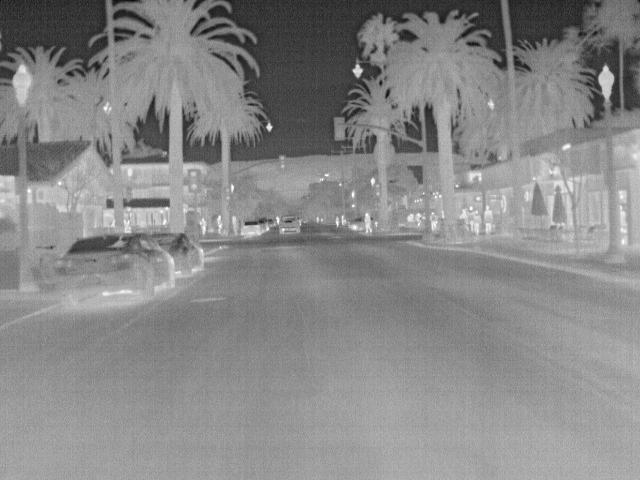car: (58, 236, 175, 310), (149, 232, 205, 278), (279, 214, 305, 235), (239, 221, 263, 238), (347, 214, 365, 232), (255, 216, 270, 232), (264, 218, 276, 230)
person: (483, 204, 495, 234), (361, 211, 375, 236), (469, 210, 483, 234), (213, 213, 225, 234), (196, 218, 210, 234), (430, 210, 440, 231), (414, 212, 426, 228), (405, 212, 418, 223)
